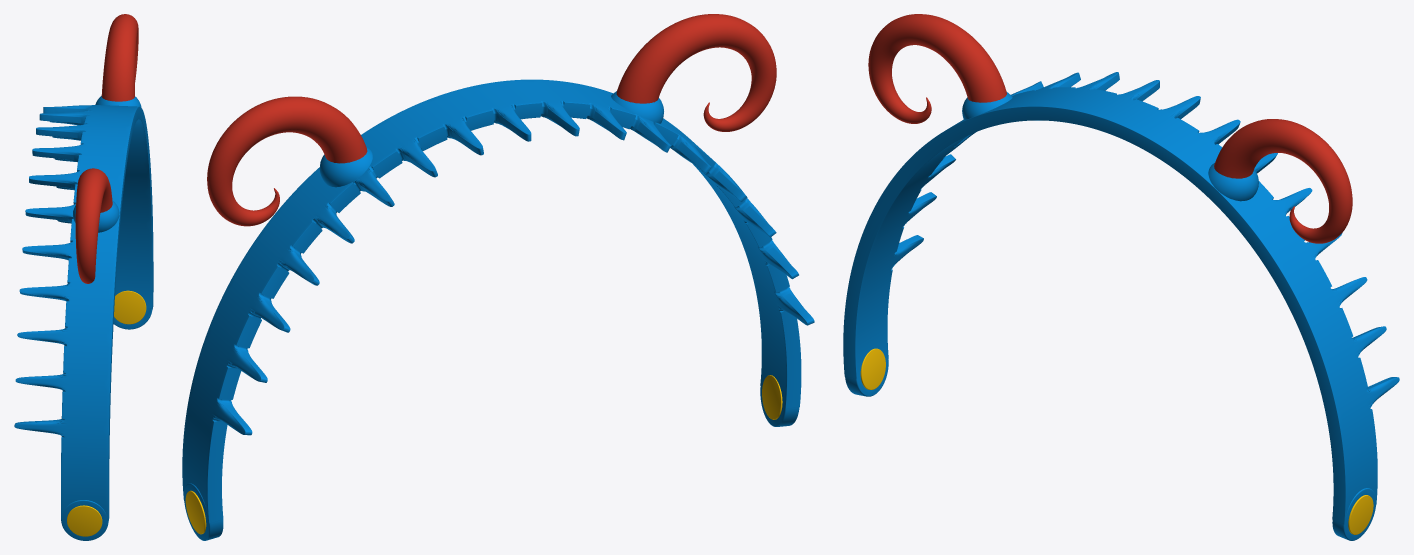
File: ram-horn-headband.glb
3 renders of one model, left to right at view 1: azimuth 30°, elevation 25°; view 2: azimuth 150°, elevation 25°; view 3: azimuth 270°, elevation 25°, orthographic. The views are drawn at different scales.
Parts seen in each view (by area): view 1: ram-horn-headband-part-001, ram-horn-headband-part-002, ram-horn-headband-part-004, ram-horn-headband-part-003, ram-horn-headband-part-005; view 2: ram-horn-headband-part-001, ram-horn-headband-part-002, ram-horn-headband-part-004, ram-horn-headband-part-005; view 3: ram-horn-headband-part-001, ram-horn-headband-part-002, ram-horn-headband-part-004, ram-horn-headband-part-005.
Part boxes in pixels (x1,y1,x2,y2): ram-horn-headband-part-001: (14, 105, 153, 540); ram-horn-headband-part-002: (75, 168, 112, 283); ram-horn-headband-part-004: (101, 14, 138, 101); ram-horn-headband-part-003: (73, 200, 119, 232); ram-horn-headband-part-005: (95, 96, 141, 106); ram-horn-headband-part-001: (182, 79, 814, 540); ram-horn-headband-part-002: (616, 14, 776, 131); ram-horn-headband-part-004: (207, 96, 367, 226); ram-horn-headband-part-005: (319, 147, 372, 187); ram-horn-headband-part-001: (843, 72, 1399, 540); ram-horn-headband-part-002: (868, 14, 1006, 123); ram-horn-headband-part-004: (1214, 119, 1352, 243); ram-horn-headband-part-005: (1208, 163, 1258, 201).
Bounding box in the file's own units: 2.35 × 2.36 × 3.
